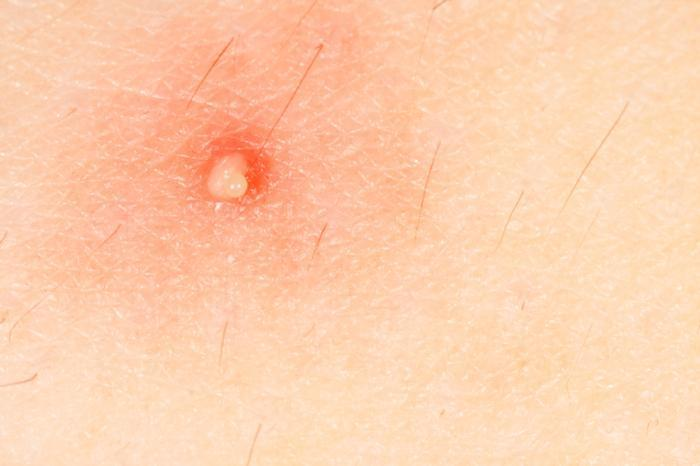acene: (106, 72, 422, 327)
